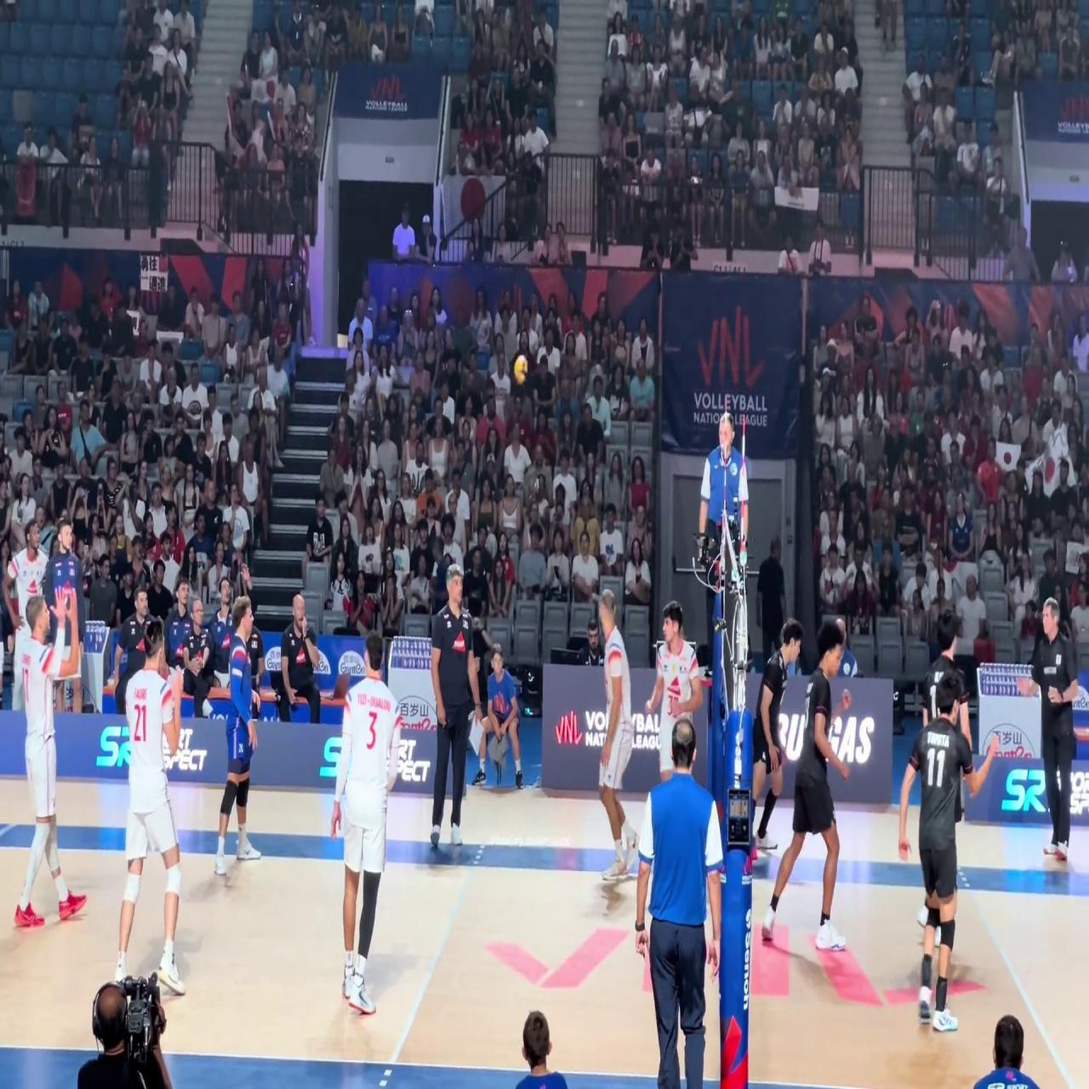ball: (514, 357, 528, 381)
